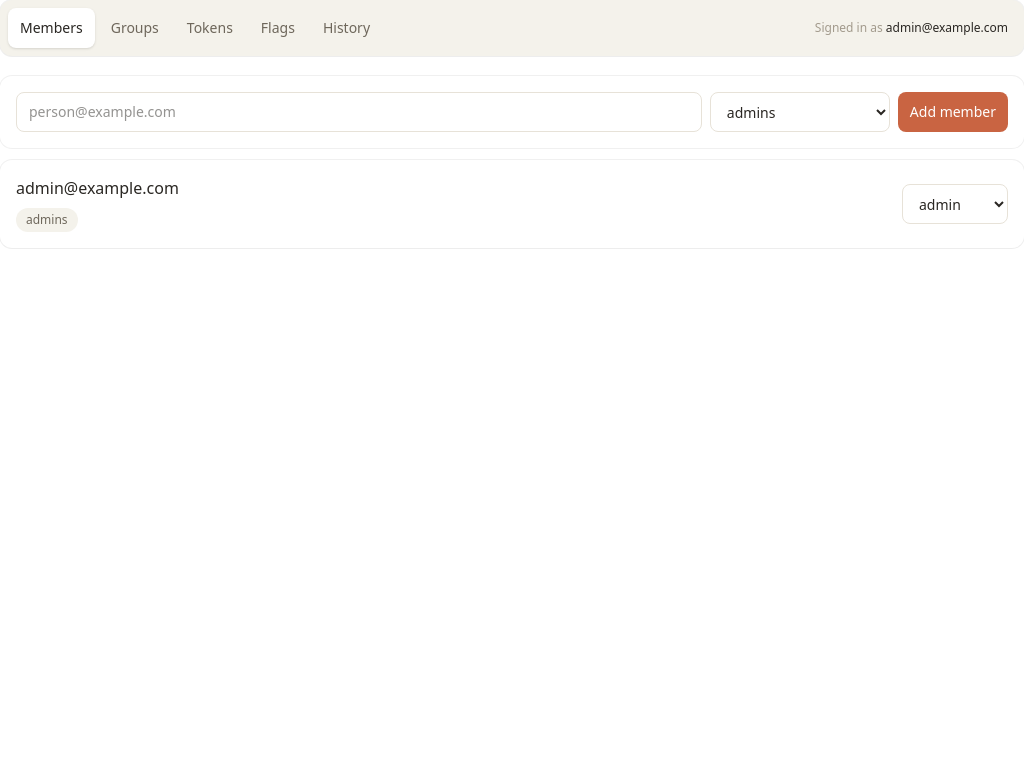
Test: AccessAdmin flags tab › holds a restart-effect flag in a pending state while the deployment disagrees
Click the tab "flags": {"x": 278, "y": 28} [249, 8, 307, 48]
(page scrolled)
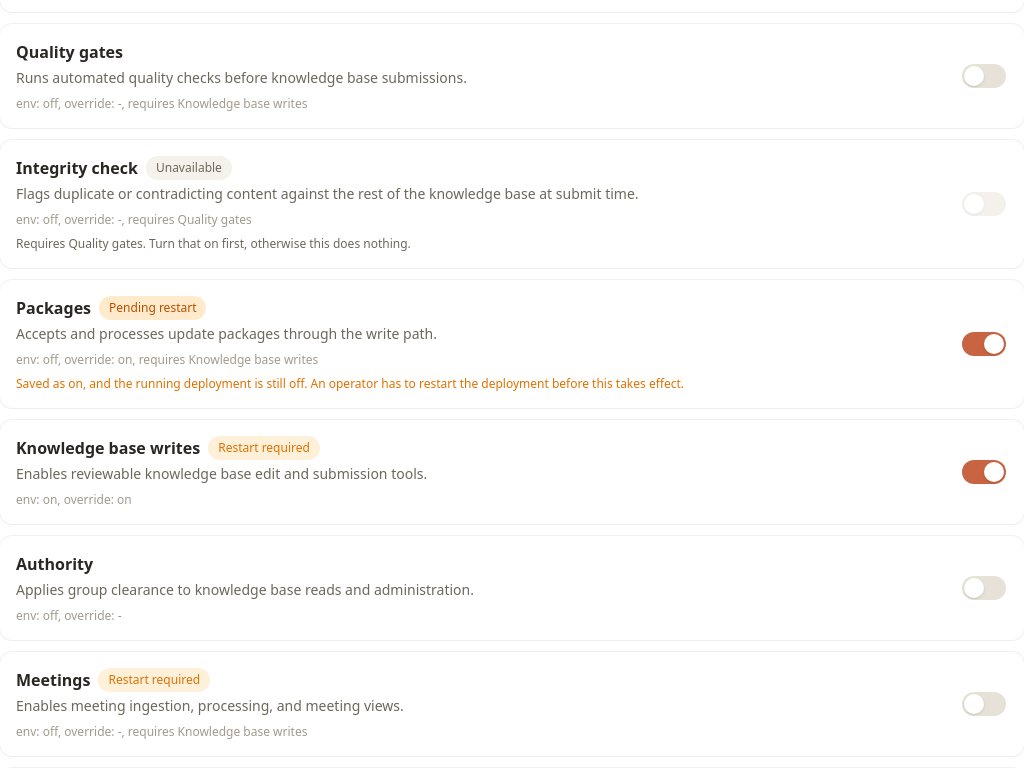
expect the text with test id "pending-PACKAGES_ENABLED" reads "Pending restart": met, box [109, 299, 196, 316]
expect the text "restart the deployment before this takes effect" is shown: met, box [304, 375, 684, 392]
